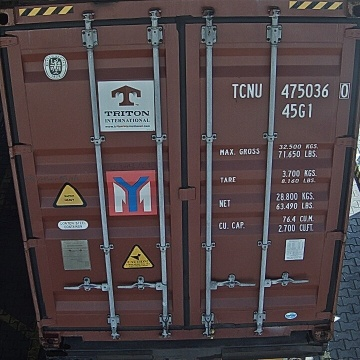serial_id: (232, 83, 349, 98)
